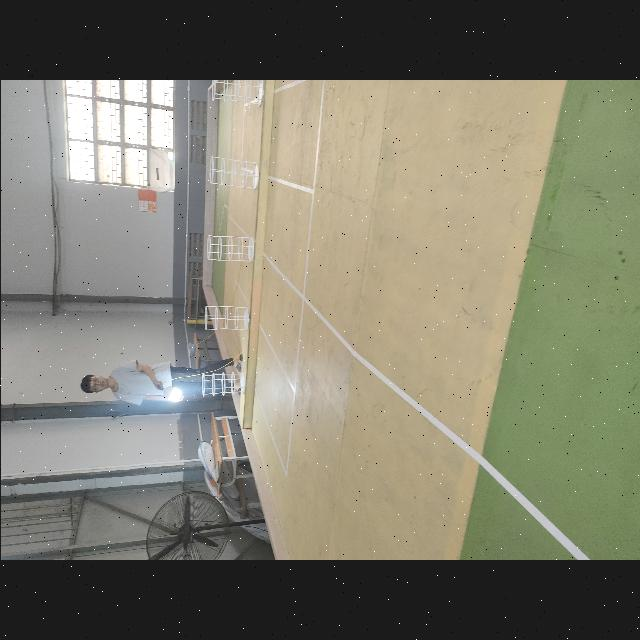S: (208, 156, 258, 190), (211, 80, 263, 108), (206, 235, 254, 263), (203, 305, 249, 331), (202, 374, 244, 396)
